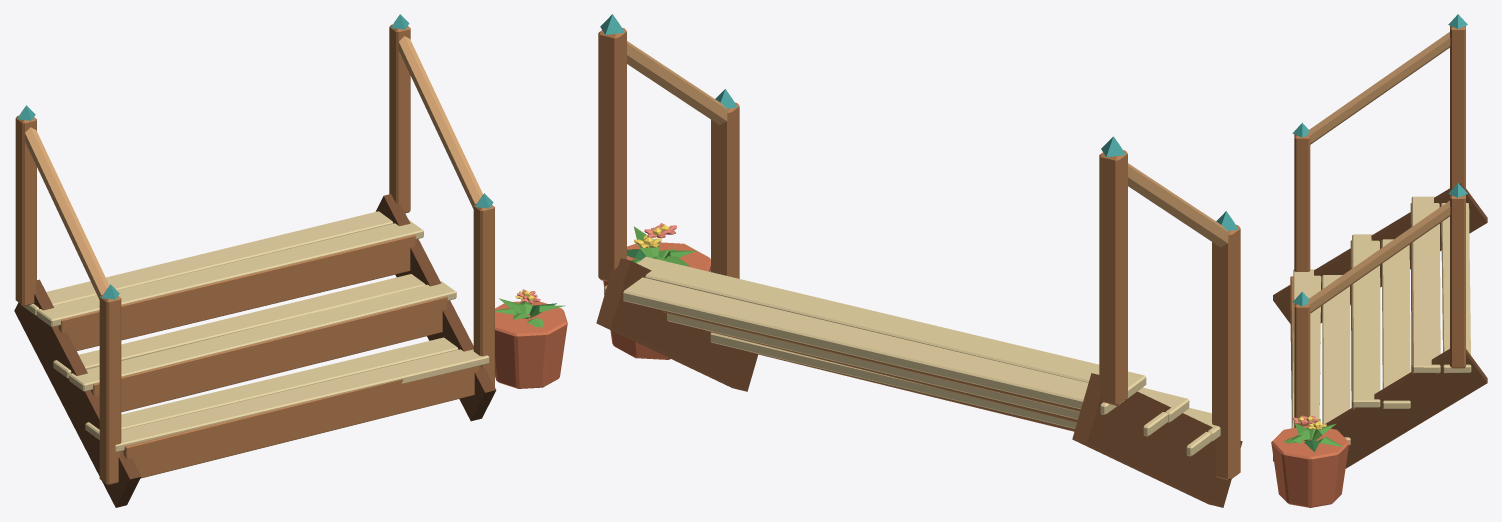
Rendered from deck_stairs.glb.
3 renders of one model, left to right at view 1: azimuth 30°, elevation 25°; view 2: azimuth 150°, elevation 25°; view 3: azimuth 270°, elevation 25°, orthographic. The views are drawn at different scales.
Visible parts, largest first — view 1: Deck Stairs; view 2: Deck Stairs; view 3: Deck Stairs.
Boxes of the visible parts, x1=… form: Deck Stairs: x1=14, y1=14, x2=567, y2=507; Deck Stairs: x1=596, y1=14, x2=1242, y2=507; Deck Stairs: x1=1271, y1=14, x2=1487, y2=507.
Size of the model in its own units: 2.49 by 1.74 by 1.08.
1 material, 1 textured.
